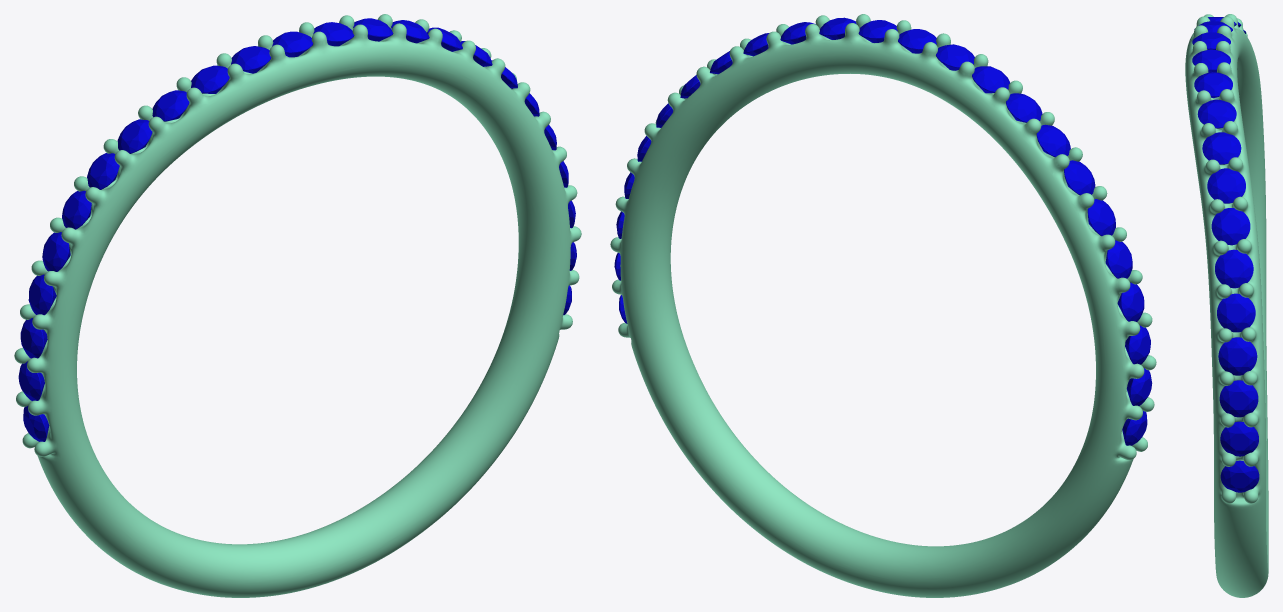
3 views of the same model, side by side, from view 1: azimuth 30°, elevation 25°; view 2: azimuth 150°, elevation 25°; view 3: azimuth 270°, elevation 25° (orthographic). The views are drawn at different scales.
Parts seen in each view (by area): view 1: Metal03, Diamond_Band.003, Diamond_Band.004, Diamond_Band.002, Diamond_Band.005, Diamond_Band.001, Diamond_Band.006, Diamond_Band, Diamond_Band.007, Diamond_Band.009; view 2: Metal03, Diamond_Band.003, Diamond_Band.004, Diamond_Band.002, Diamond_Band.001, Diamond_Band.005, Diamond_Band.006, Diamond_Band, Diamond_Band.007; view 3: Metal03, Diamond_Band.022, Diamond_Band.023, Diamond_Band.021, Diamond_Band.020, Diamond_Band.014, Diamond_Band.019, Diamond_Band.013, Diamond_Band.018, Diamond_Band.012, Diamond_Band.017, Diamond_Band.016 (+3 smaller).
Part boxes in pixels (box(x1,y1,x2,y2)): Metal03: box(14, 14, 581, 597); Diamond_Band.003: box(87, 153, 119, 189); Diamond_Band.004: box(117, 119, 152, 153); Diamond_Band.002: box(62, 190, 91, 229); Diamond_Band.005: box(152, 90, 189, 121); Diamond_Band.001: box(42, 232, 70, 271); Diamond_Band.006: box(191, 65, 229, 93); Diamond_Band: box(28, 274, 56, 315); Diamond_Band.007: box(231, 46, 271, 73); Diamond_Band.009: box(20, 318, 47, 358); Metal03: box(610, 14, 1156, 597); Diamond_Band.003: box(1064, 160, 1095, 195); Diamond_Band.004: box(1036, 124, 1070, 157); Diamond_Band.002: box(1087, 199, 1115, 236); Diamond_Band.001: box(1105, 240, 1132, 278); Diamond_Band.005: box(1006, 93, 1042, 122); Diamond_Band.006: box(972, 66, 1009, 93); Diamond_Band: box(1117, 282, 1144, 321); Diamond_Band.007: box(936, 44, 974, 70); Metal03: box(1185, 14, 1268, 597); Diamond_Band.022: box(1217, 293, 1255, 332); Diamond_Band.023: box(1218, 337, 1257, 375); Diamond_Band.021: box(1215, 249, 1253, 288); Diamond_Band.020: box(1211, 208, 1250, 245); Diamond_Band.014: box(1219, 380, 1258, 417); Diamond_Band.019: box(1207, 168, 1245, 203); Diamond_Band.013: box(1220, 421, 1258, 456); Diamond_Band.018: box(1202, 132, 1241, 164); Diamond_Band.012: box(1220, 460, 1259, 492); Diamond_Band.017: box(1197, 99, 1236, 128); Diamond_Band.016: box(1194, 72, 1232, 98).
Bounding box in the file's own units: 21.29 × 21.09 × 3.01.
